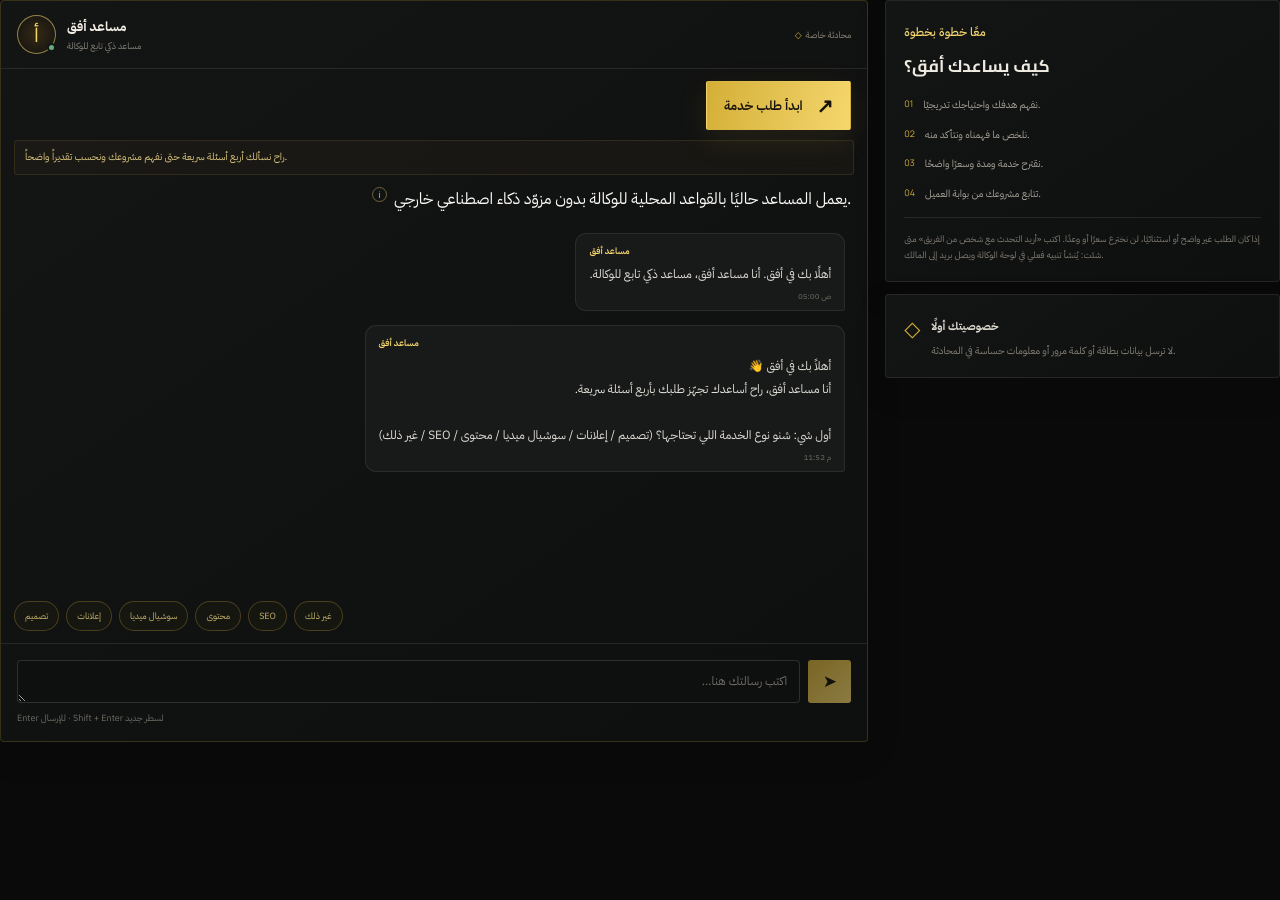
Test: chat opened from «اطلب خدمة جديدة» (?intent=service_request) › keeps the welcome above the client's answer, and a refresh does not ask again
Type "هلا شلونكم" into the text box. click: (409, 681)
box: [17, 660, 800, 703]
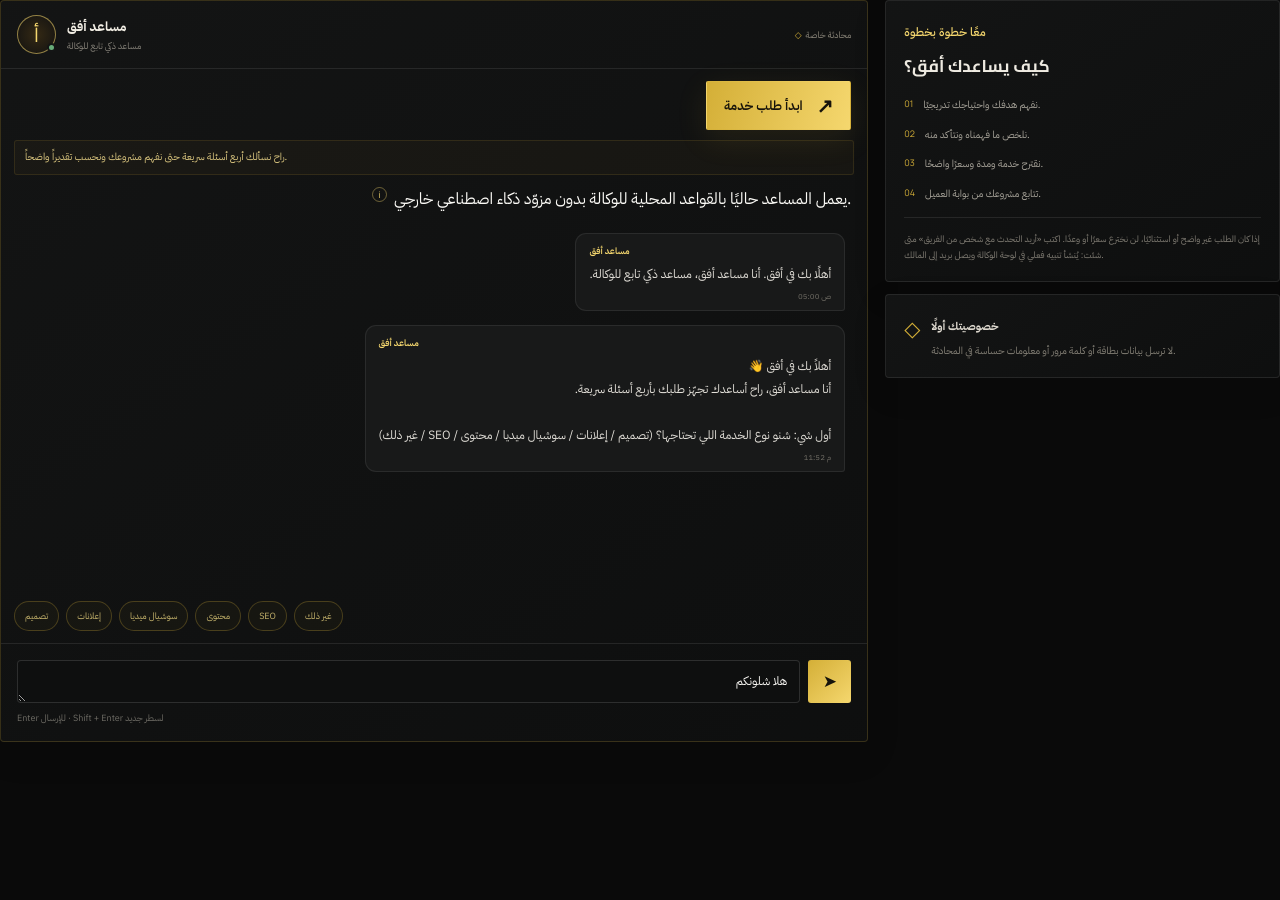
Submit the form, box [1, 642, 867, 741]
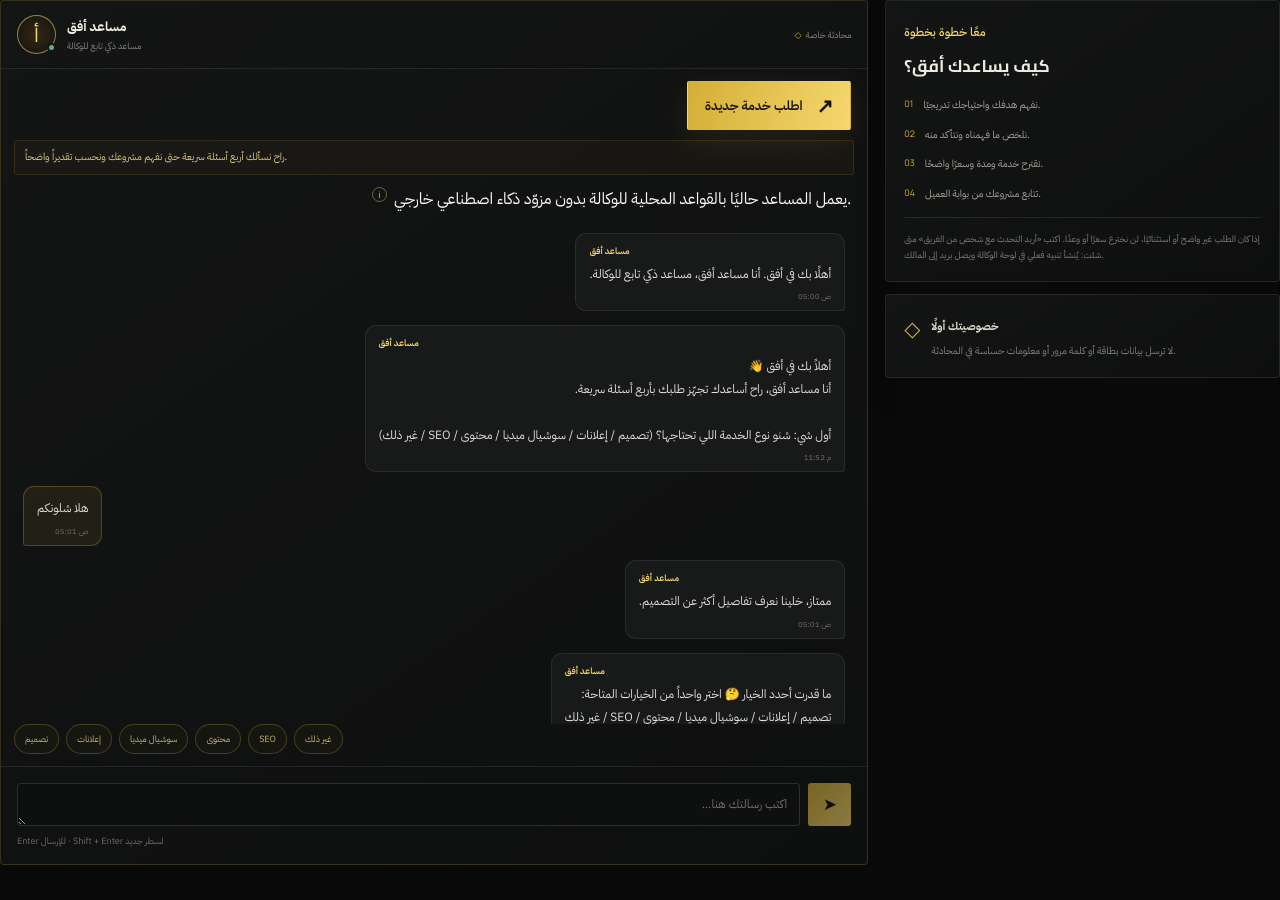
Expected: the text "ممتاز، خلينا نعرف تفاصيل أكثر عن التصميم." is shown, [639, 590, 831, 613]
Expected: the text "ما قدرت أحدد الخيار" is shown, [565, 685, 831, 724]
